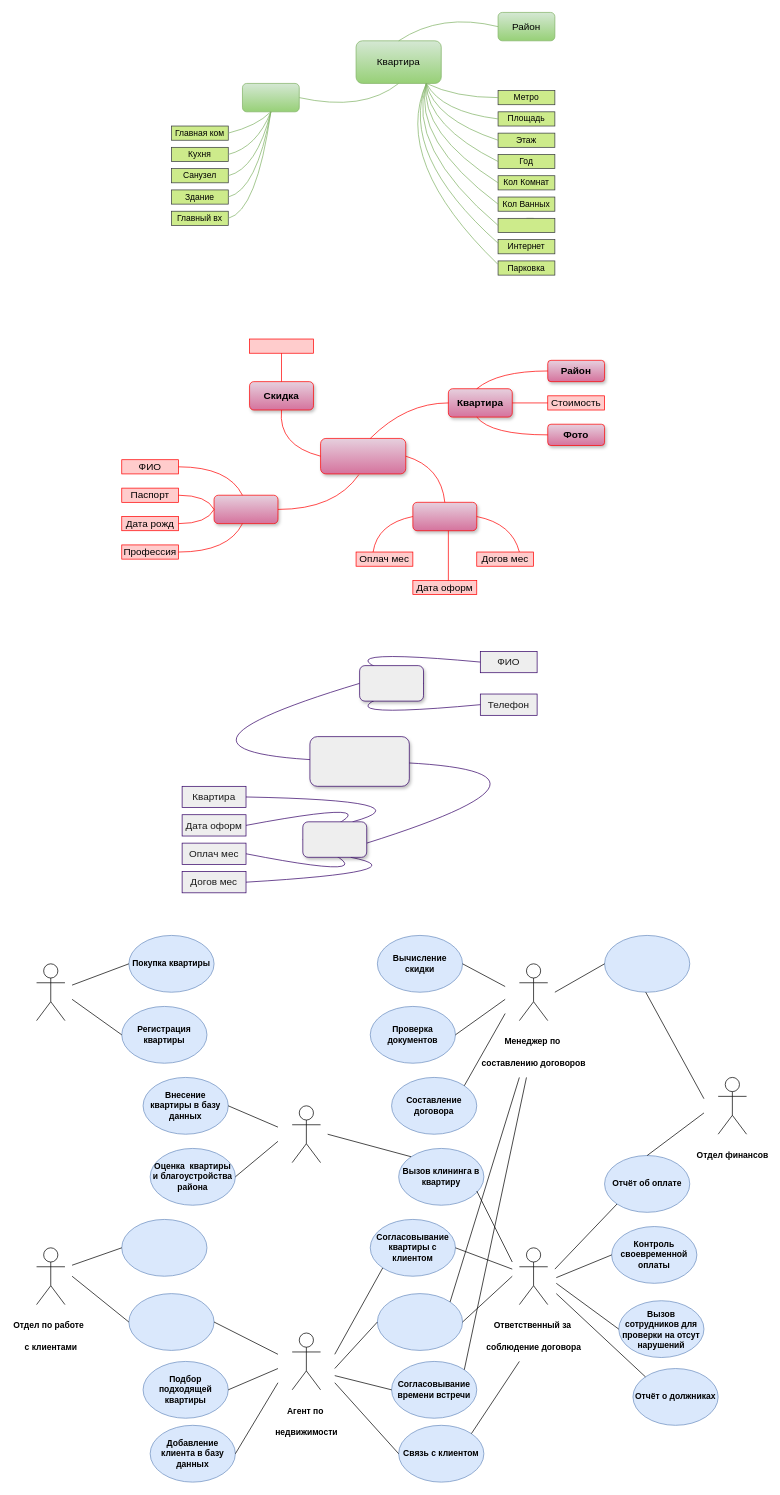
The diagram is 780 pixels wide and 1495 high, and some of its shapes have lost their labels. The shapes that lost their labels are listed below. From the top down, each one's centre as x and y in pixels, then its label:
At point (270, 97): "Фотокаталог".
At point (526, 225): "Телевидение".
At point (281, 345): "Итог скидка".
At point (363, 457): "Договор".
At point (246, 510): "Клиент".
At point (445, 517): "Дата".
At point (392, 684): "Клиенты".
At point (360, 762): "Контроль оплаты".
At point (335, 840): "Договоры".
At point (647, 963): "Внесение договора в базу данных".
At point (50, 992): "Отдел по покупке недвижимости".
At point (306, 1134): "Оценщик квартиры".
At point (164, 1247): "Поиск потенциальных клиентов".
At point (171, 1321): "Первичное обсуждение желаний клиента".
At point (420, 1321): "Составление запроса о новом договоре".
